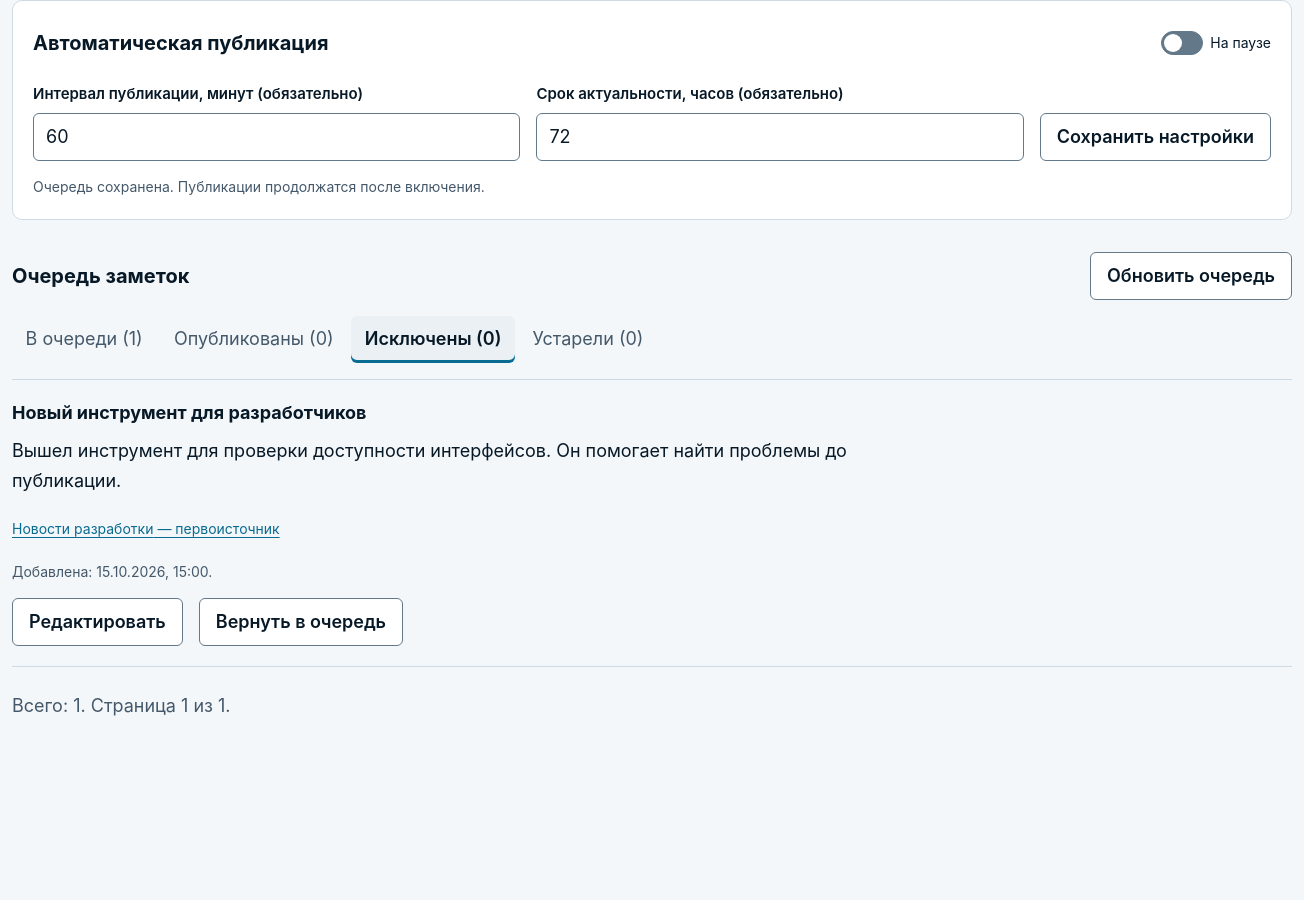
Test: note queue actions and editing › restores an excluded note through the same queue contract
Click the button "Вернуть в очередь" at [301, 622], box [199,598,403,646]
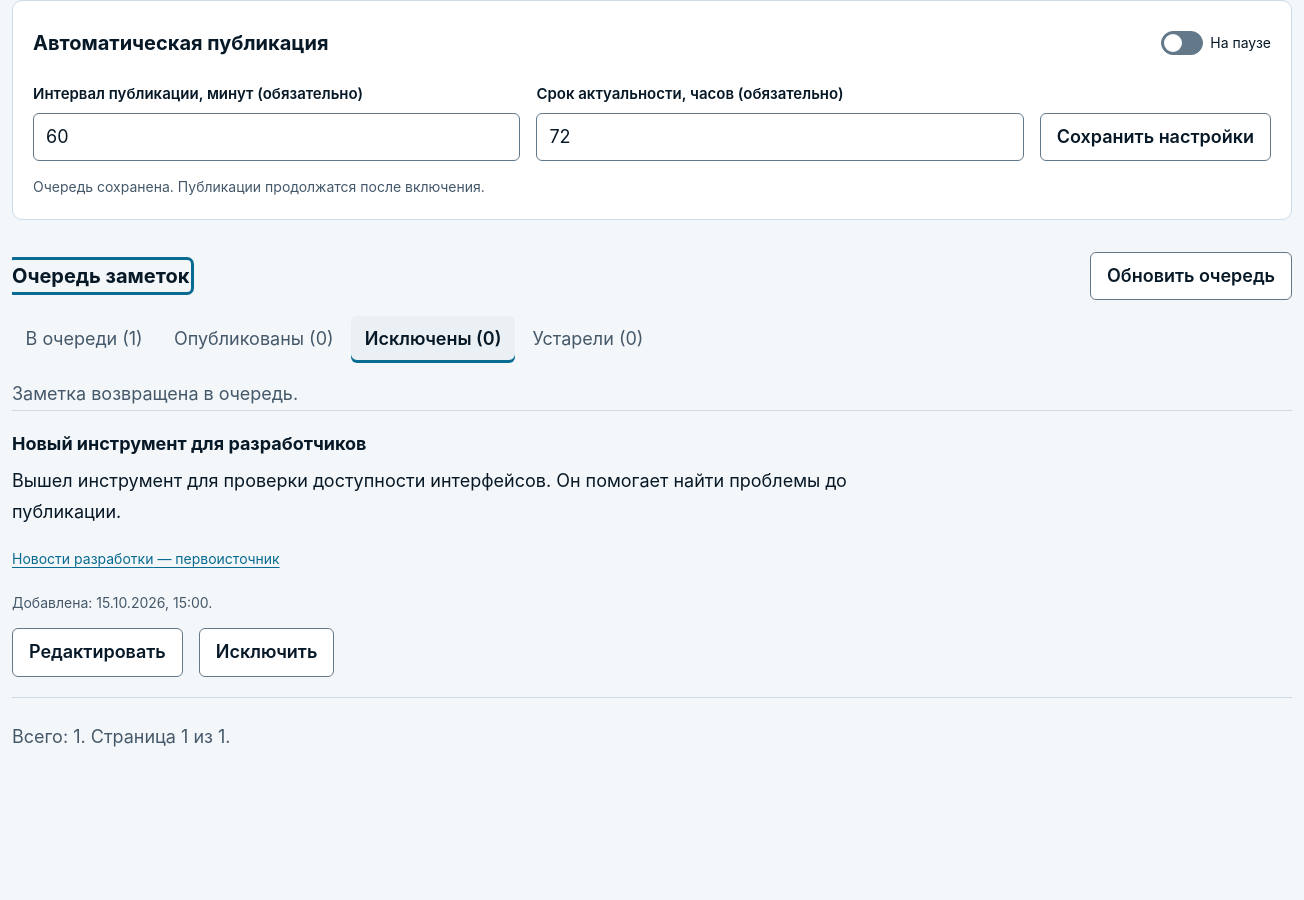
Result: the text "Заметка возвращена в очередь." is shown at [12,383,298,404]
